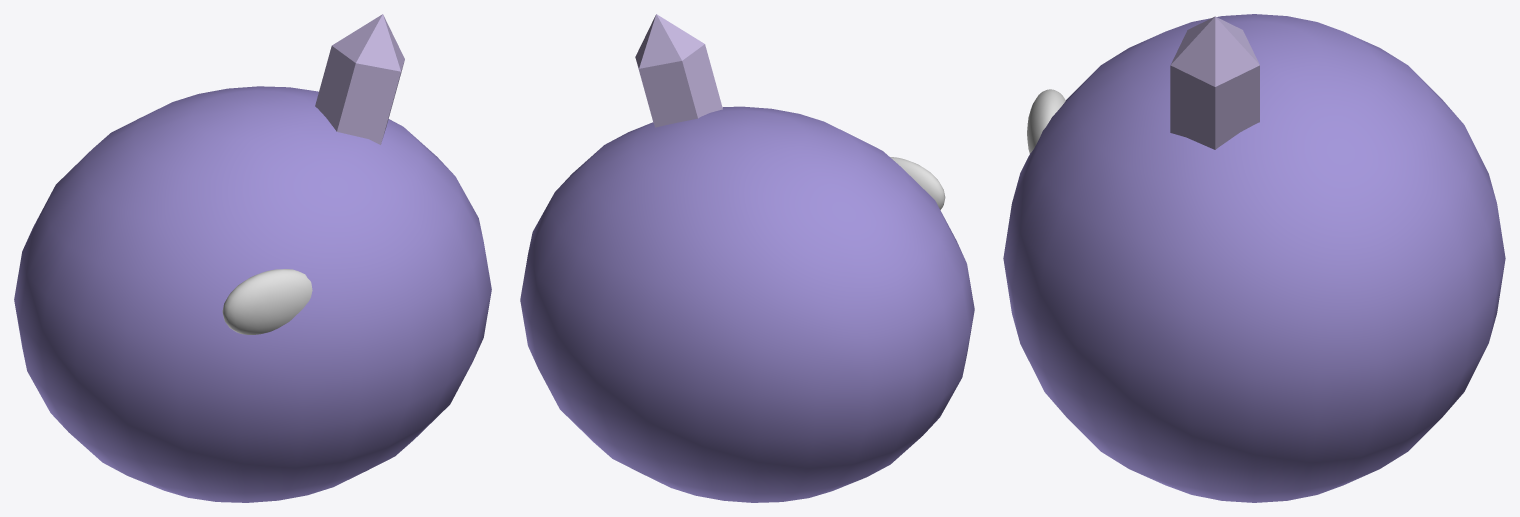
File: mat_glimmer.glb
The picture shows the model from 3 angles, left to right: view 1: azimuth 30°, elevation 25°; view 2: azimuth 150°, elevation 25°; view 3: azimuth 270°, elevation 25°; orthographic projection. The views are drawn at different scales.
Visible parts, largest first — view 1: _crystal; view 2: _crystal; view 3: _crystal.
Boxes of the visible parts, box(x1,y1,x2,y2) form: _crystal: box(14, 14, 491, 502); _crystal: box(520, 14, 974, 502); _crystal: box(1003, 14, 1505, 502).
Bounding box in the file's own units: 0.72 × 0.7293 × 0.64.
